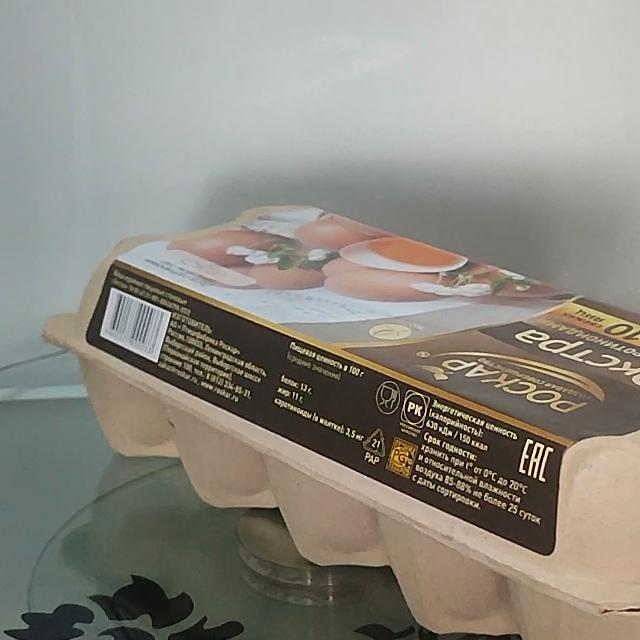egg: (63, 176, 640, 640)
